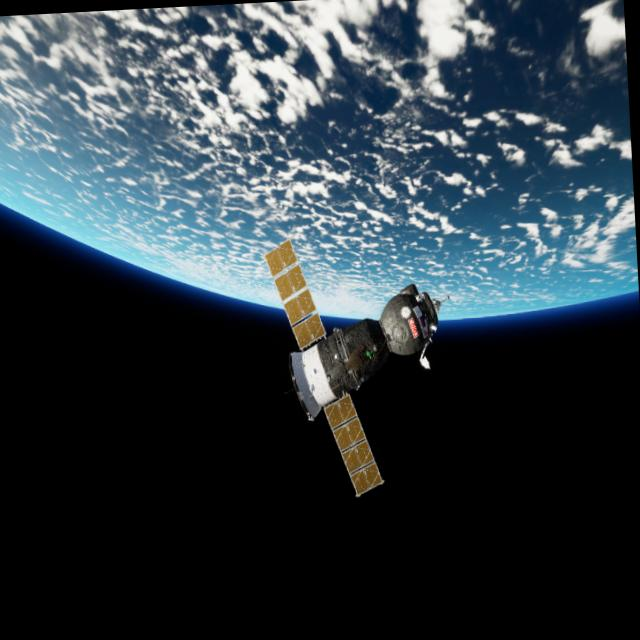Satellites revolving around earth: (262, 227, 456, 504)
